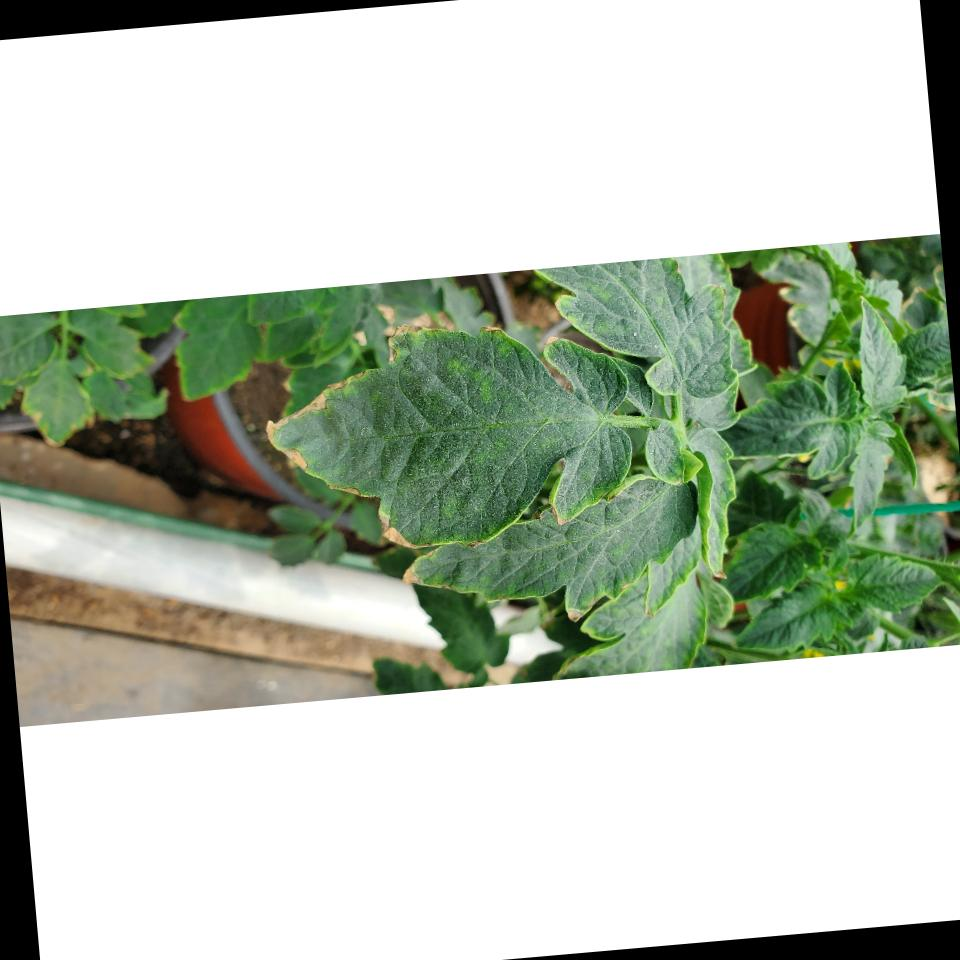tomato_bacterial_blight: (252, 345, 635, 525)
